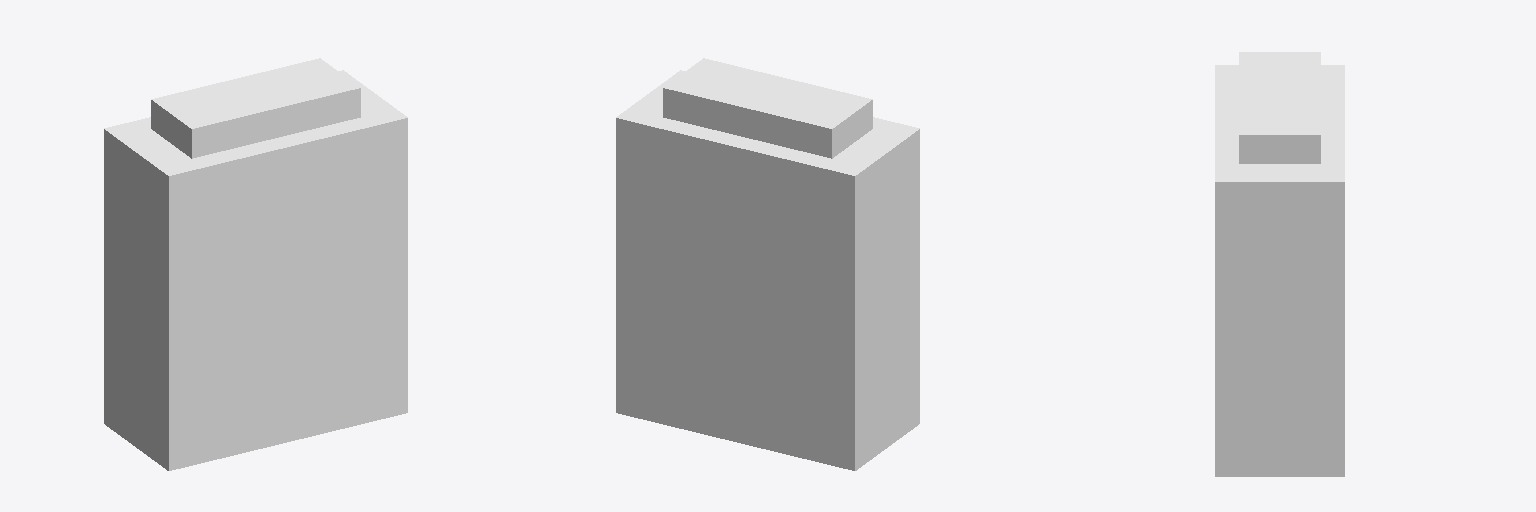
Rendered from humanoid-34.obj.
3 renders of one model, left to right at view 1: azimuth 30°, elevation 25°; view 2: azimuth 150°, elevation 25°; view 3: azimuth 270°, elevation 25°, orthographic.
Visible parts, largest first — view 1: humanoid-34; view 2: humanoid-34; view 3: humanoid-34.
Boxes of the visible parts, x1=… form: humanoid-34: x1=104, y1=58, x2=407, y2=470; humanoid-34: x1=616, y1=58, x2=919, y2=470; humanoid-34: x1=1215, y1=52, x2=1344, y2=476.
Bounding box in the file's own units: 34 × 44 × 16.